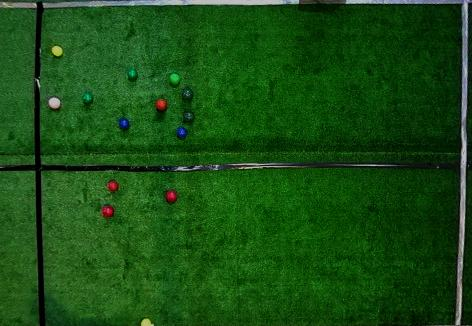blue: (177, 126, 188, 139), (119, 118, 130, 129)
green: (169, 73, 181, 85), (127, 68, 138, 80), (182, 88, 193, 100), (183, 111, 195, 122), (82, 93, 93, 104)
red: (165, 191, 178, 203), (48, 97, 60, 109), (155, 100, 167, 111), (102, 206, 114, 217), (108, 181, 119, 191)
vline: (1, 1, 47, 325), (453, 1, 471, 325)
white: (149, 322, 155, 325)
yellow: (51, 46, 63, 57), (140, 317, 152, 325)
